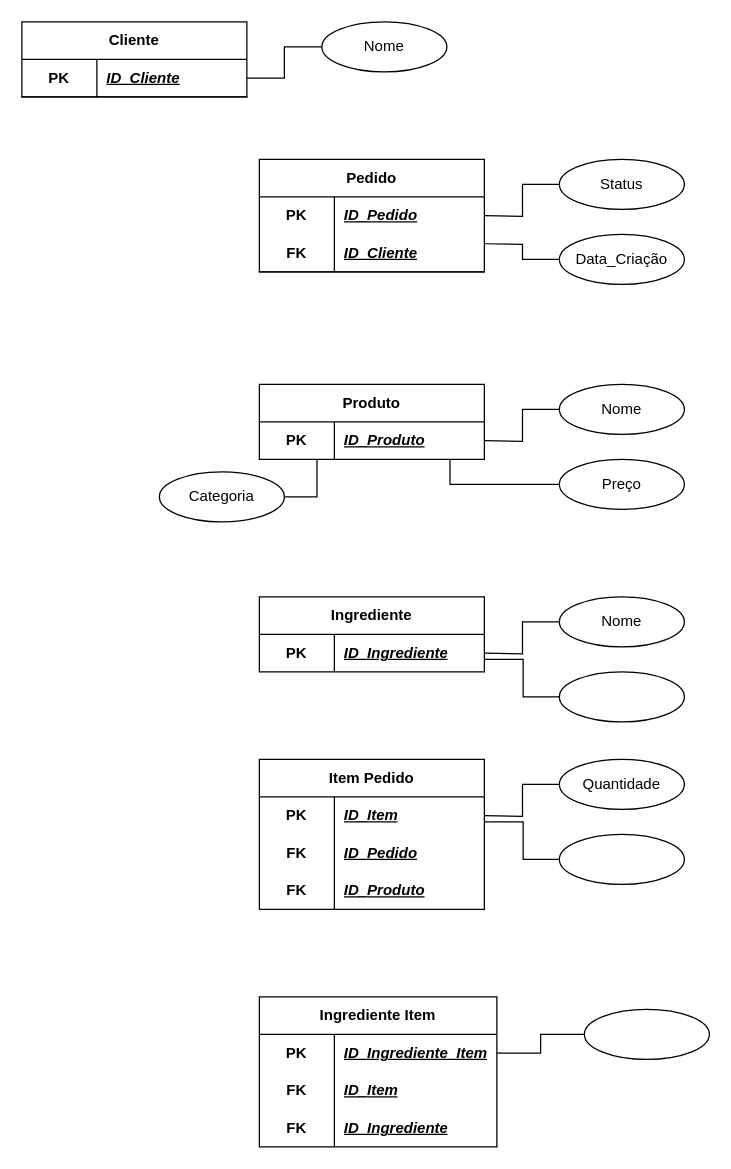
Some shapes in this 731 by 1169 pixel diagram are drawn without their labels. The centre of each missing label's shape, as x and y in pixels:
Ação: point 646,1033
Preço_Adicional: point 621,696
Preço_Total: point 621,858
